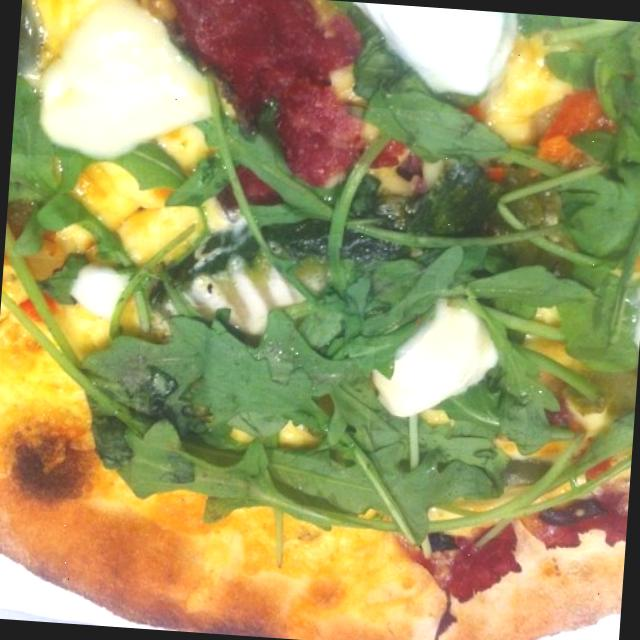basil: (313, 104, 627, 308), (500, 14, 640, 465), (130, 300, 376, 507), (302, 426, 632, 546), (190, 121, 342, 263), (4, 153, 82, 261), (344, 269, 434, 350), (254, 242, 341, 324), (122, 139, 209, 193)
cheese: (35, 2, 222, 162), (368, 293, 506, 425), (358, 2, 524, 104), (66, 254, 148, 326)
